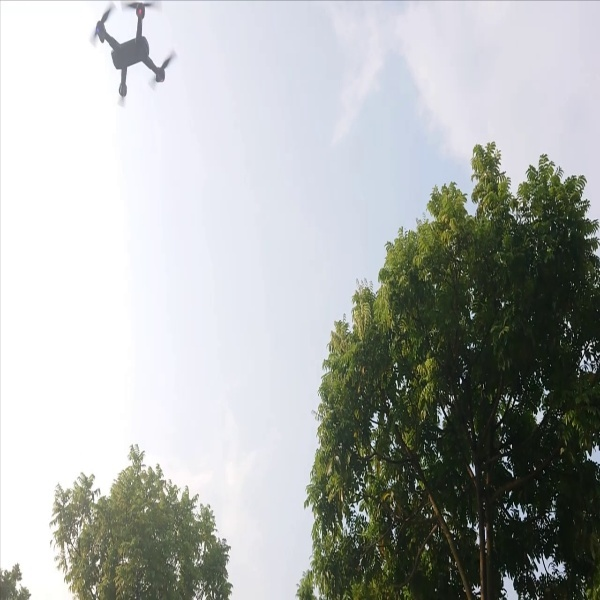drone: (86, 1, 188, 111)
